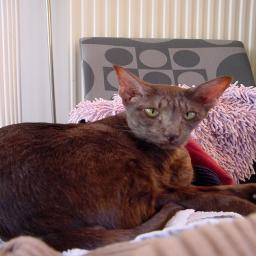catnose: (163, 129, 181, 142)
